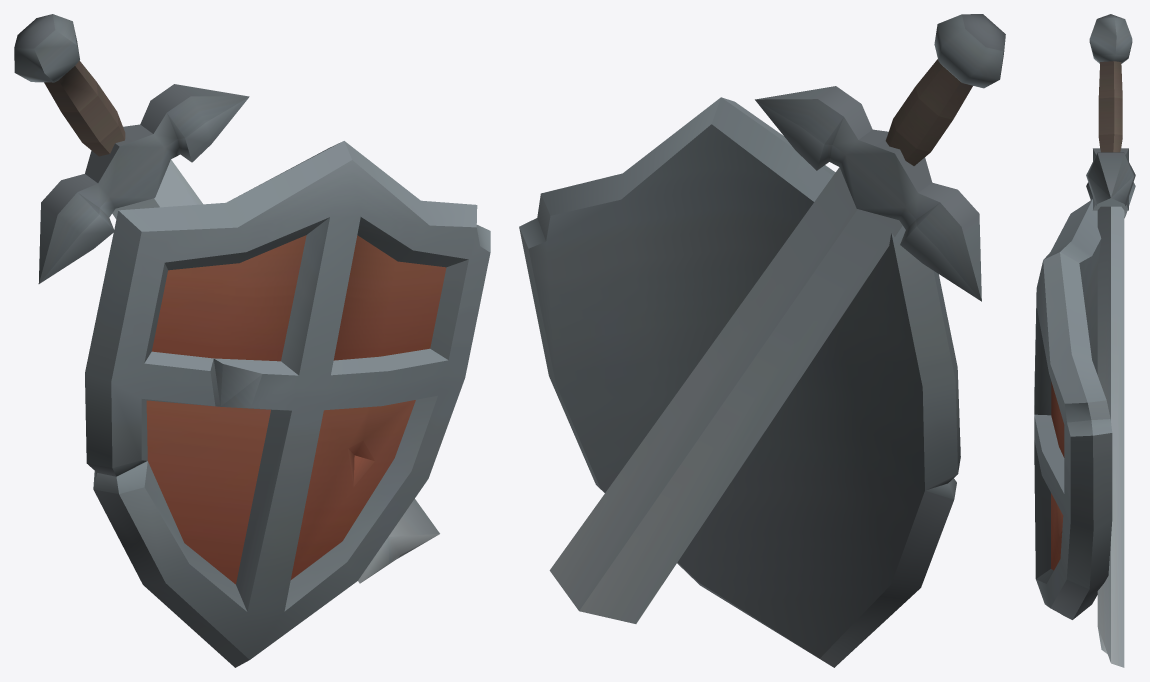
Rendered from sword_shield_broken.glb.
The picture shows the model from 3 angles, left to right: view 1: azimuth 30°, elevation 25°; view 2: azimuth 150°, elevation 25°; view 3: azimuth 270°, elevation 25°; orthographic projection. The views are drawn at different scales.
Parts seen in each view (by area): view 1: sword_shield_broken; view 2: sword_shield_broken; view 3: sword_shield_broken.
Boxes of the visible parts, x1,y1,x2,y2 form: sword_shield_broken: [14, 14, 490, 667]; sword_shield_broken: [519, 14, 1005, 667]; sword_shield_broken: [1034, 14, 1135, 667].
Size of the model in its own units: 1.43 by 1.96 by 0.3356.
1 material, 1 textured.
